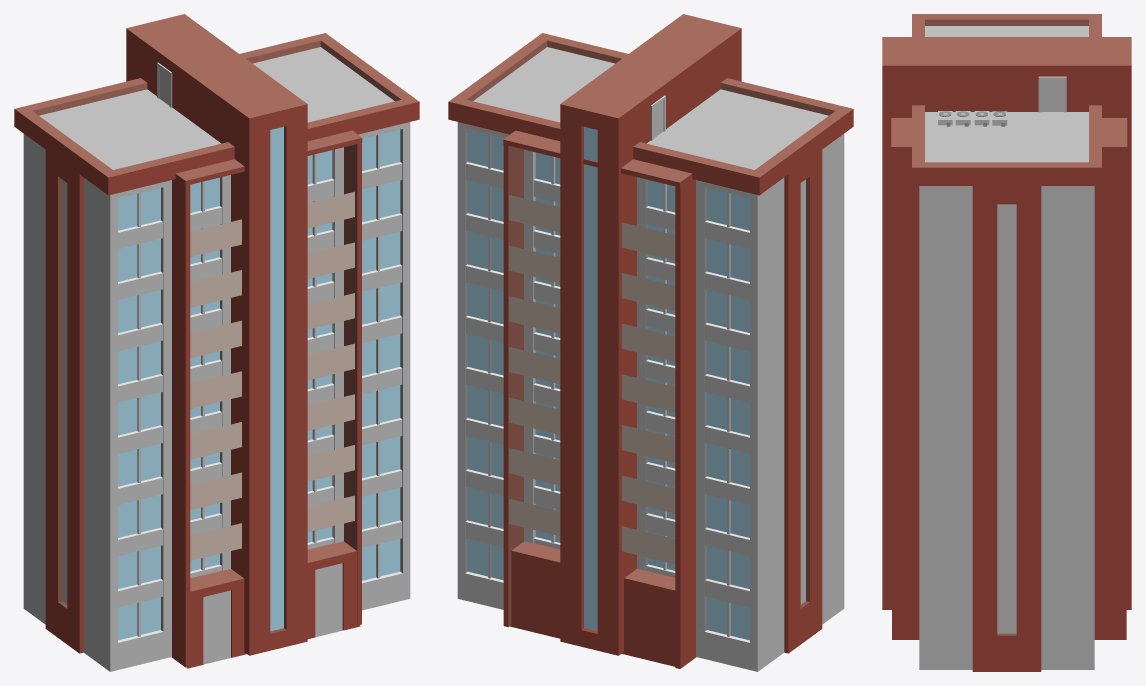
The model's file is house_high_007.fbx.
3 renders of one model, left to right at view 1: azimuth 30°, elevation 25°; view 2: azimuth 150°, elevation 25°; view 3: azimuth 270°, elevation 25°, orthographic.
Visible parts, largest first — view 1: house_high_007; view 2: house_high_007; view 3: house_high_007.
Part boxes in pixels (x1,y1,x2,y2): house_high_007: (14,14,419,671); house_high_007: (448,14,853,671); house_high_007: (882,14,1131,671).
Bounding box in the file's own units: 1390 × 2310 × 954.
